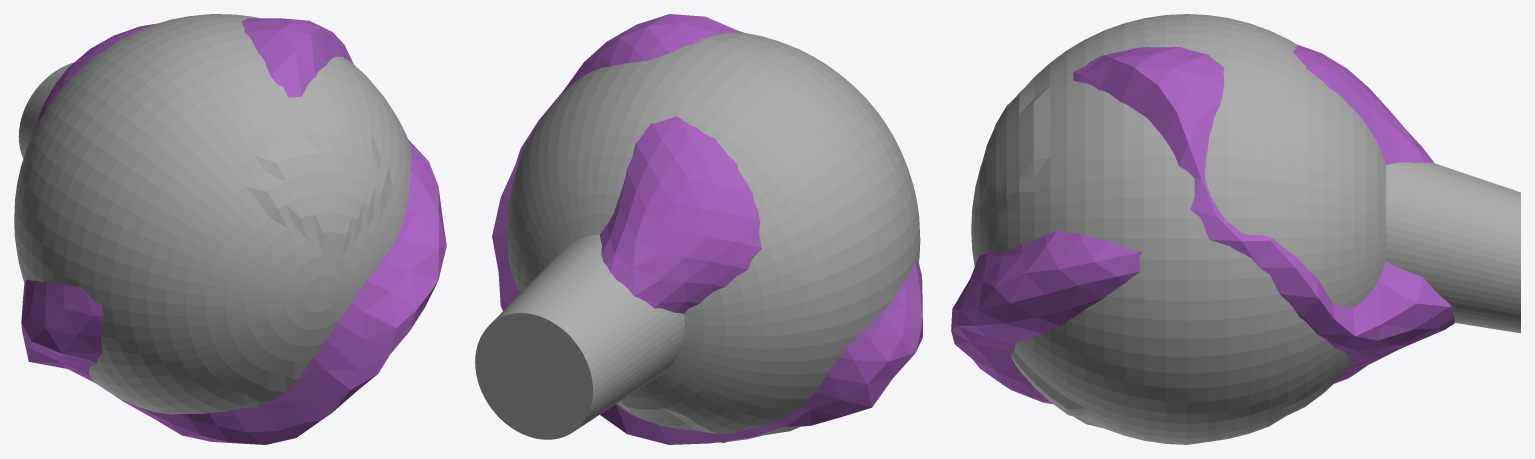
The model's file is G10_A2D_ALIGNED_GT.glb.
3 views of the same model, side by side, from view 1: azimuth 30°, elevation 25°; view 2: azimuth 150°, elevation 25°; view 3: azimuth 270°, elevation 25° (orthographic). The views are drawn at different scales.
Parts seen in each view (by area): view 1: Independent_GT, A2D; view 2: Independent_GT, A2D; view 3: Independent_GT, A2D.
Part boxes in pixels (bbox=[...]): Independent_GT: bbox=[14, 14, 411, 414]; A2D: bbox=[21, 18, 446, 444]; Independent_GT: bbox=[475, 32, 920, 442]; A2D: bbox=[492, 14, 922, 444]; Independent_GT: bbox=[971, 14, 1520, 444]; A2D: bbox=[951, 44, 1455, 404].
Size of the model in its own units: 0.00648 by 0.00626 by 0.00819.
